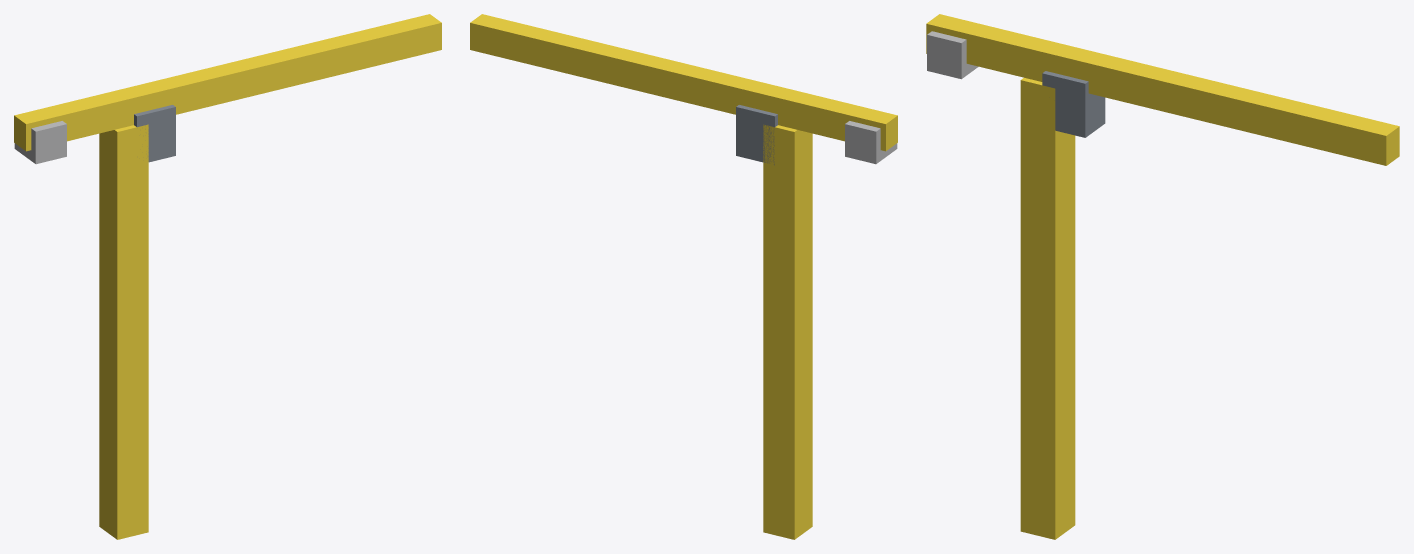
Rendered from Construction_TowerCrane_01.fbx.
3 renders of one model, left to right at view 1: azimuth 30°, elevation 25°; view 2: azimuth 150°, elevation 25°; view 3: azimuth 330°, elevation 25°, orthographic. The views are drawn at different scales.
Visible parts, largest first — view 1: Construction_TowerCrane_01; view 2: Construction_TowerCrane_01; view 3: Construction_TowerCrane_01.
Part boxes in pixels (bbox=[...]): Construction_TowerCrane_01: bbox=[14, 14, 441, 539]; Construction_TowerCrane_01: bbox=[470, 14, 897, 539]; Construction_TowerCrane_01: bbox=[926, 14, 1399, 539].
Bounding box in the file's own units: 16 × 16 × 1.4.
